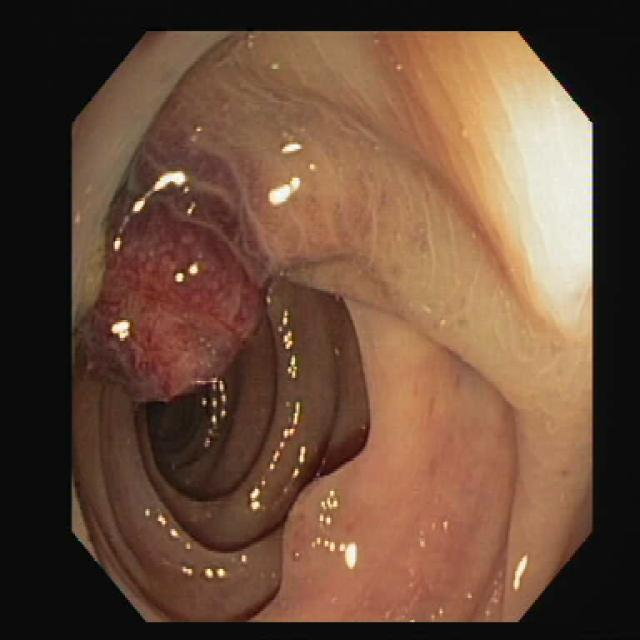tumor: (78, 173, 263, 400), (283, 478, 347, 578)
